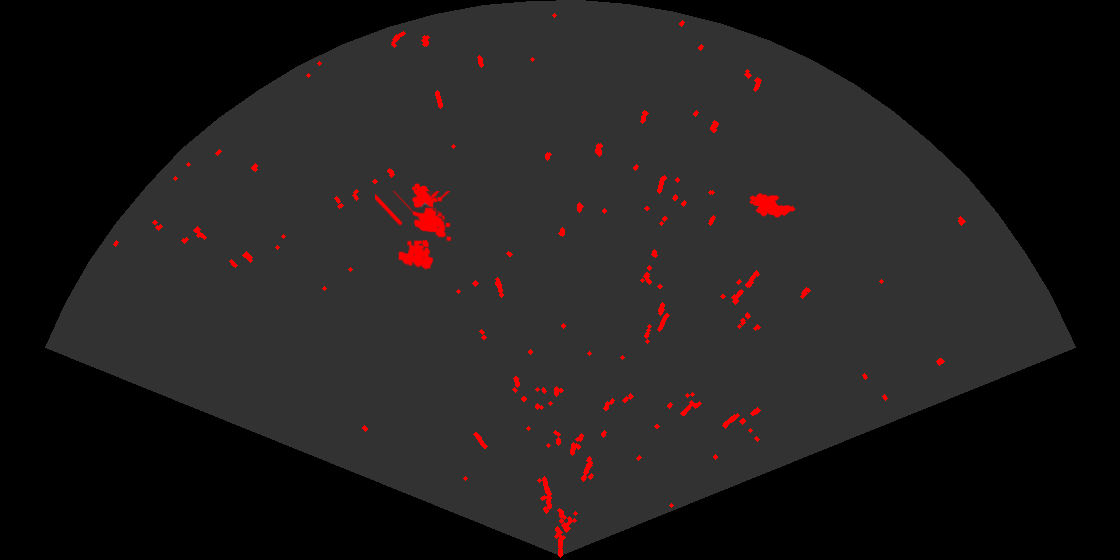AUV: (410, 182, 446, 223), (748, 192, 797, 219)
cage: (375, 191, 453, 271)
